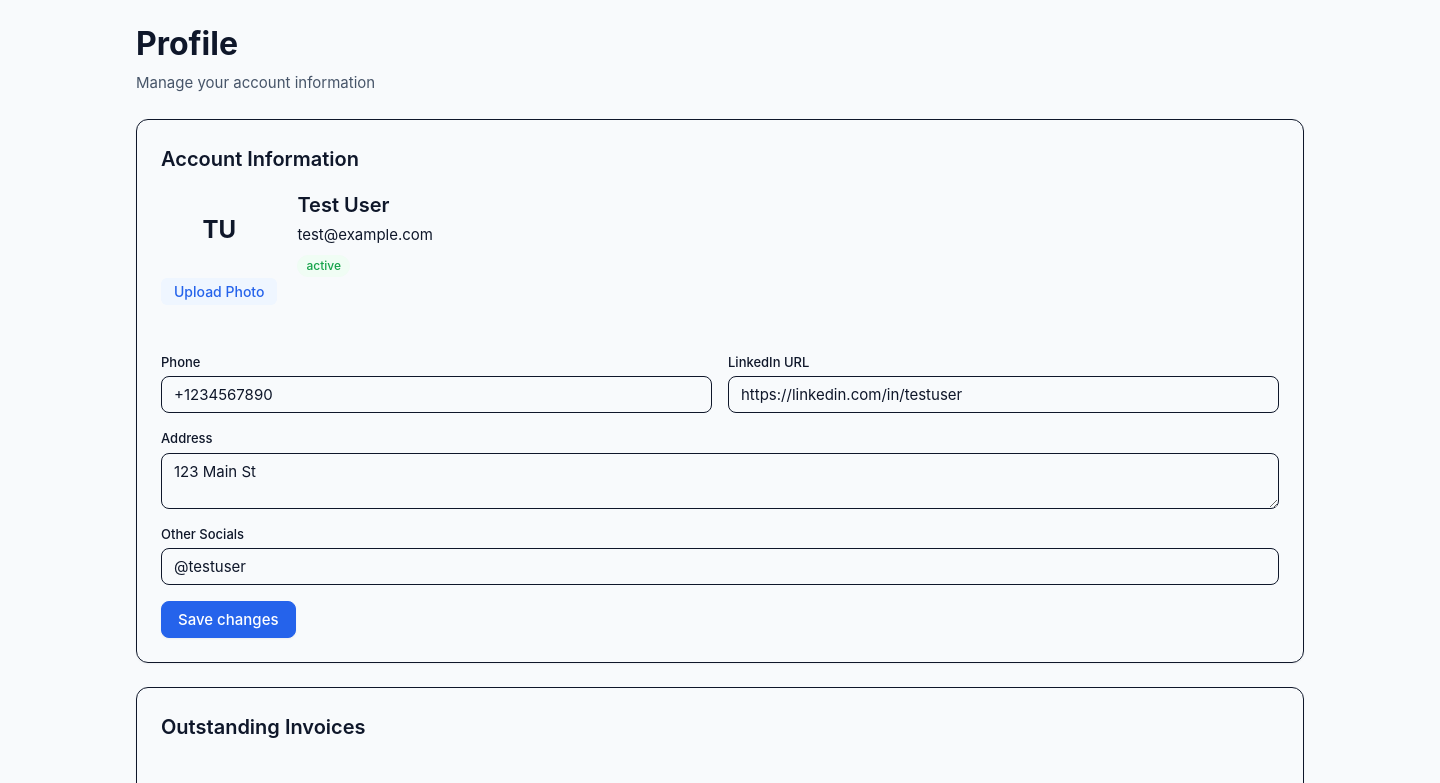
Scenario: ProfilePage › Updating profile › updates profile successfully on save
# Update phone on first input
Replace the text in the field showing "+1234567890" below "Phone" with "+9999999999" at (436, 394), box top-left (161, 376), bottom-right (712, 413)
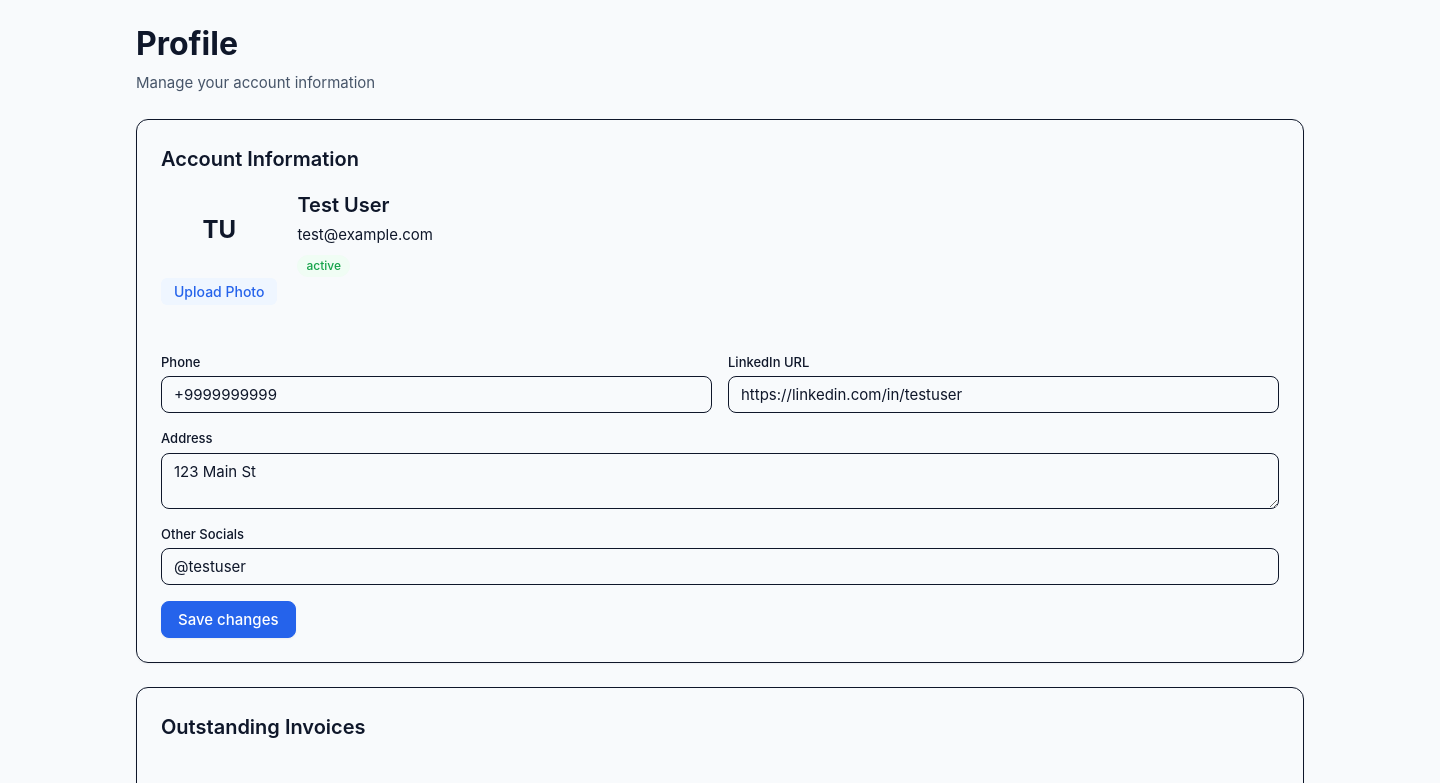
# Click first save button (now says "Save changes")
Click the button "Save changes" at (228, 620), box top-left (161, 601), bottom-right (296, 638)
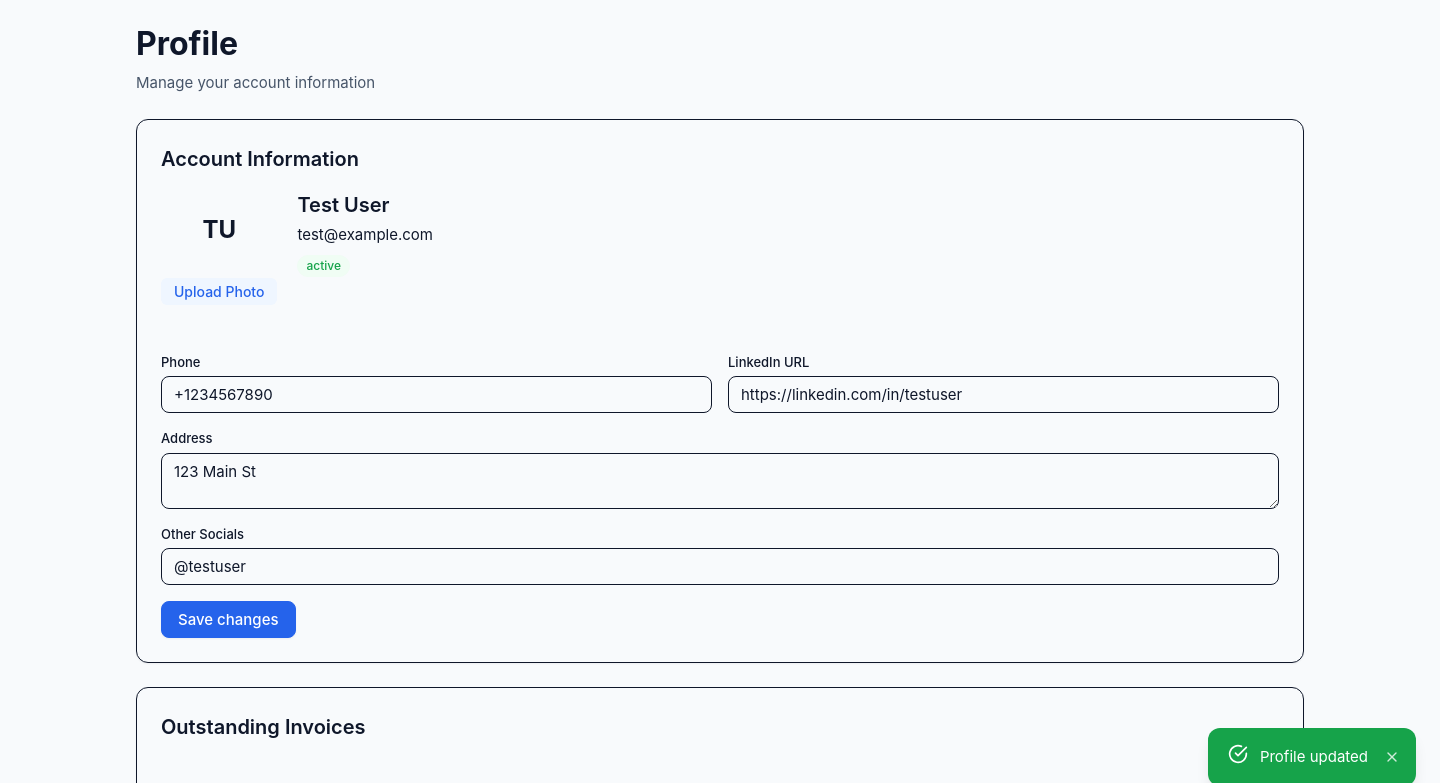
Now the text "Profile updated" is shown, box top-left (1260, 746), bottom-right (1368, 768)
